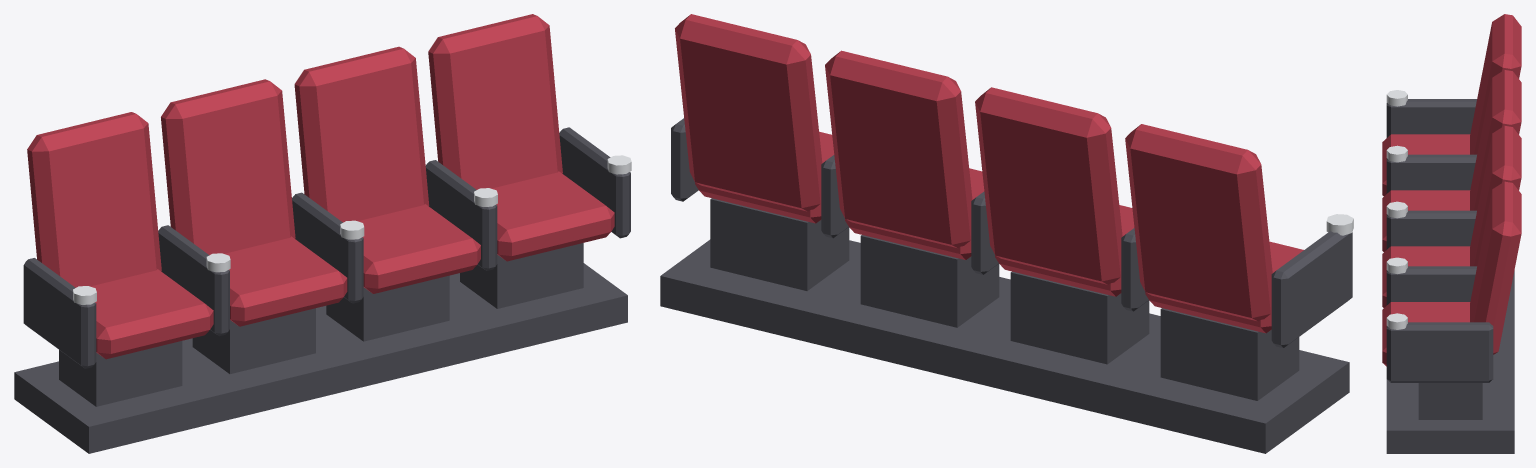
The model's file is mp_seats.glb.
3 views of the same model, side by side, from view 1: azimuth 30°, elevation 25°; view 2: azimuth 150°, elevation 25°; view 3: azimuth 270°, elevation 25° (orthographic). The views are drawn at different scales.
Parts seen in each view (by area): view 1: mp_seats; view 2: mp_seats; view 3: mp_seats.
Part boxes in pixels (x1,y1,x2,y2): mp_seats: (14,14,631,453); mp_seats: (660,14,1353,453); mp_seats: (1382,14,1521,453).
Bounding box in the file's own units: 2.58 × 1.16 × 0.6528.
